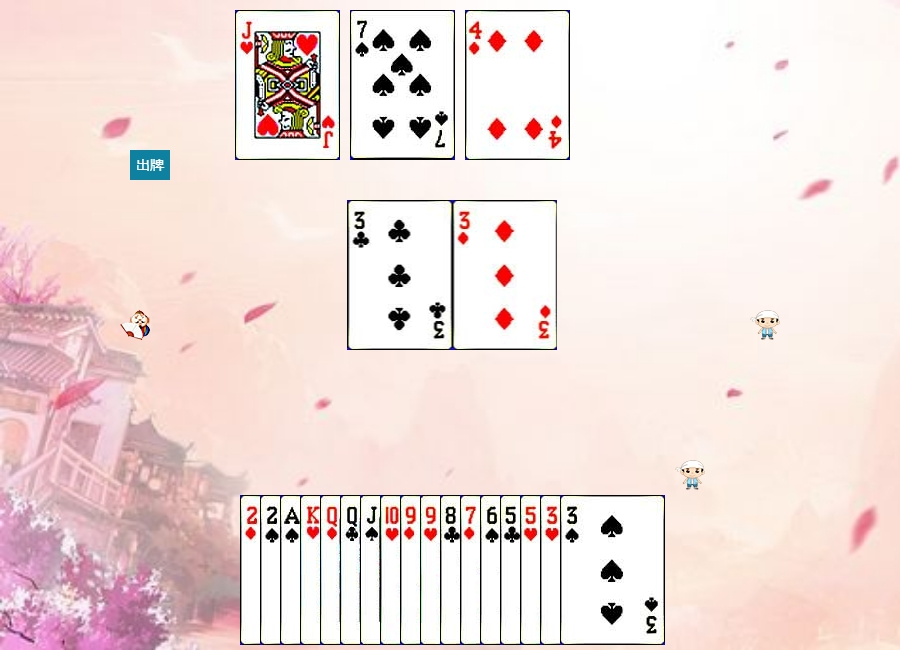10~3: (380, 495, 485, 645)
11~3: (235, 10, 340, 160)
11~4: (360, 495, 465, 645)
12~1: (320, 495, 425, 645)
12~2: (340, 495, 445, 645)
13~3: (300, 495, 405, 645)
14~4: (280, 495, 385, 645)
15~1: (240, 495, 345, 645)
15~4: (260, 495, 365, 645)
3~1: (453, 200, 558, 350)
3~2: (348, 200, 453, 350)
3~3: (540, 495, 645, 645)
3~4: (560, 495, 665, 645)
4~1: (465, 10, 570, 160)
5~2: (500, 495, 605, 645)
5~3: (520, 495, 625, 645)
6~4: (480, 495, 585, 645)
7~1: (460, 495, 565, 645)
7~4: (350, 10, 455, 160)
8~2: (440, 495, 545, 645)
9~1: (400, 495, 505, 645)
9~3: (420, 495, 525, 645)
